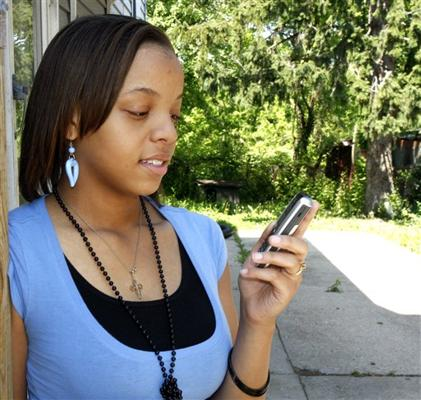person: (7, 15, 319, 400)
